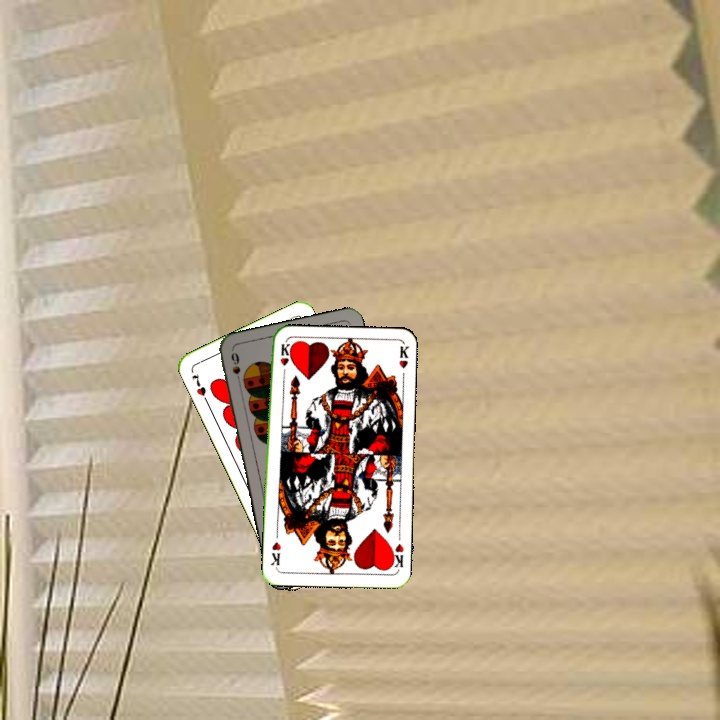H7: (188, 369, 211, 405)
HK: (386, 540, 406, 572), (276, 340, 291, 380)
S9: (227, 348, 244, 388)
